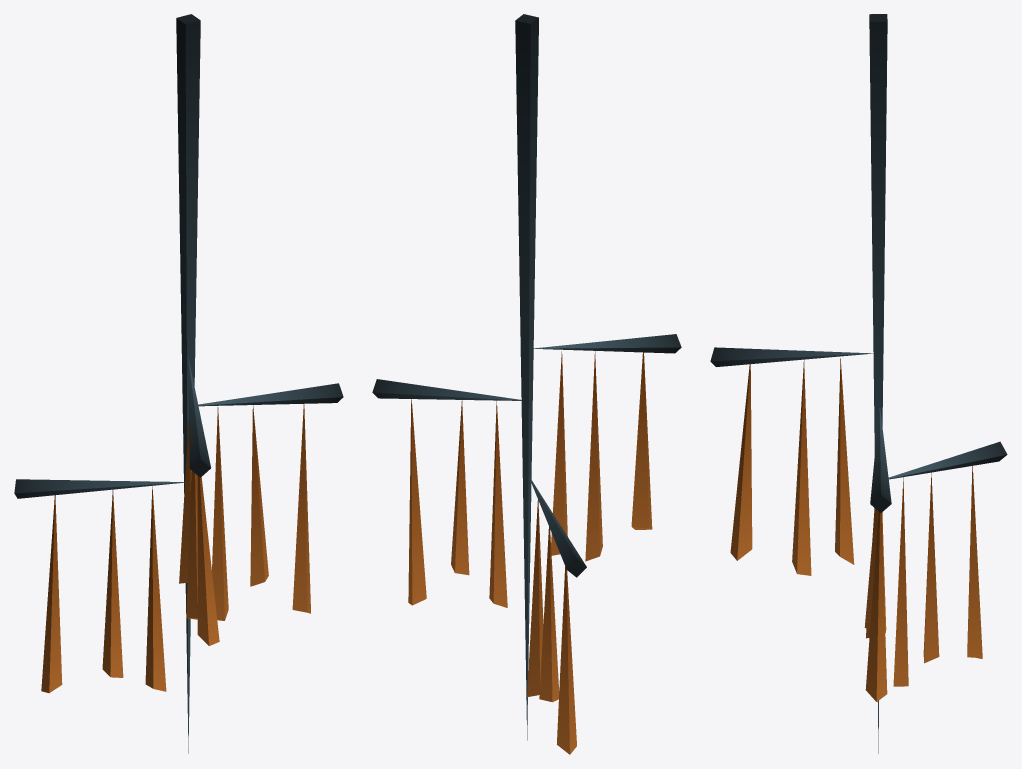
Rendered from c_deco_windchimes_ab.fbx.
The picture shows the model from 3 angles, left to right: view 1: azimuth 30°, elevation 25°; view 2: azimuth 150°, elevation 25°; view 3: azimuth 270°, elevation 25°; orthographic projection.
Visible parts, largest first — view 1: c_deco_windchimes_ab; view 2: c_deco_windchimes_ab; view 3: c_deco_windchimes_ab.
Boxes of the visible parts, left/top/right/bottom form: c_deco_windchimes_ab: left=14, top=14, right=343, bottom=753; c_deco_windchimes_ab: left=372, top=14, right=681, bottom=754; c_deco_windchimes_ab: left=710, top=14, right=1007, bottom=753.
Bounding box in the file's own units: 0.5477 × 1.43 × 0.5227.
